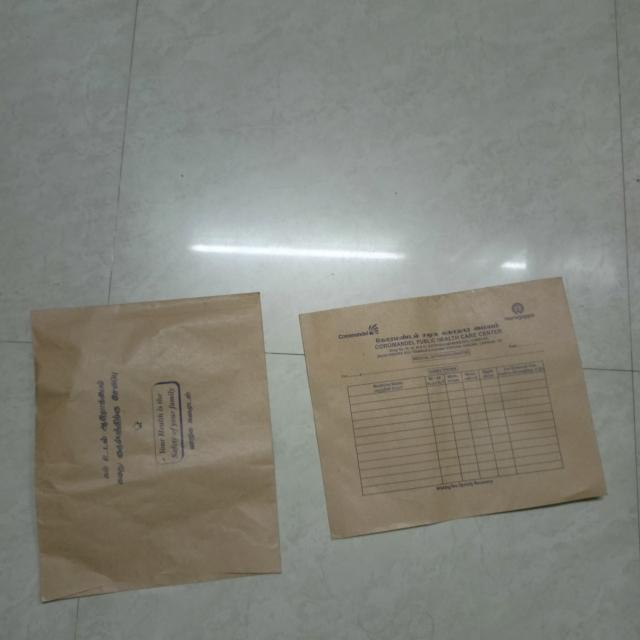box: (296, 270, 609, 538), (31, 291, 284, 605)
